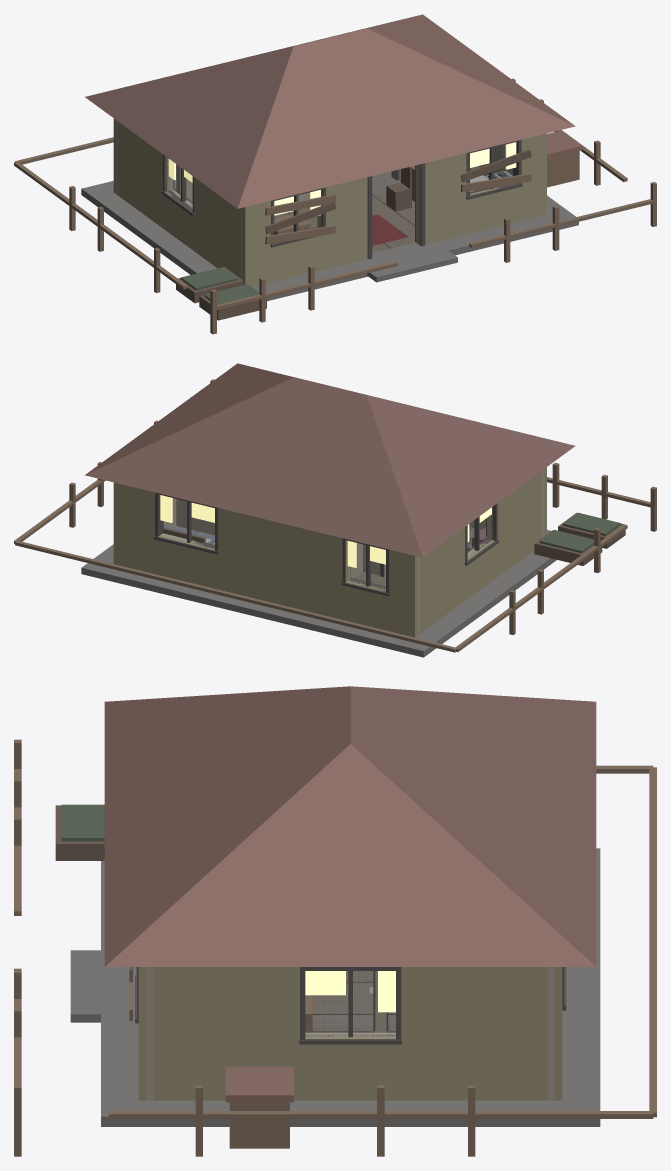
The model's file is casa_05_quintal.glb.
3 renders of one model, top to bottom at view 1: azimuth 30°, elevation 25°; view 2: azimuth 150°, elevation 25°; view 3: azimuth 270°, elevation 25°, orthographic. The views are drawn at different scales.
Parts seen in each view (by area): view 1: roof, wall_south, exterior_props, floor, walls_exterior, decor_grim, furniture, glass; view 2: roof, walls_exterior, exterior_props, floor, glass, walls_interior, furniture, wall_south; view 3: roof, walls_exterior, exterior_props, floor, wall_south, glass.
Part boxes in pixels (<box>): roof: <box>85,14,575,208</box>; wall_south: <box>240,133,546,286</box>; exterior_props: <box>14,78,656,334</box>; floor: <box>81,171,578,301</box>; walls_exterior: <box>113,118,501,278</box>; decor_grim: <box>265,149,531,245</box>; furniture: <box>174,144,512,234</box>; glass: <box>168,142,516,215</box>; roof: <box>85,363,575,557</box>; walls_exterior: <box>113,471,541,637</box>; exterior_props: <box>14,379,656,652</box>; floor: <box>81,526,556,657</box>; glass: <box>160,495,491,567</box>; walls_interior: <box>176,499,385,578</box>; furniture: <box>163,524,486,550</box>; wall_south: <box>469,467,546,537</box>; roof: <box>104,686,596,966</box>; walls_exterior: <box>154,967,566,1100</box>; exterior_props: <box>14,739,656,1156</box>; floor: <box>101,848,600,1126</box>; wall_south: <box>135,967,153,1100</box>; glass: <box>305,971,395,1012</box>.
Bounding box in the file's own units: 10.9 × 4.05 × 8.5.
